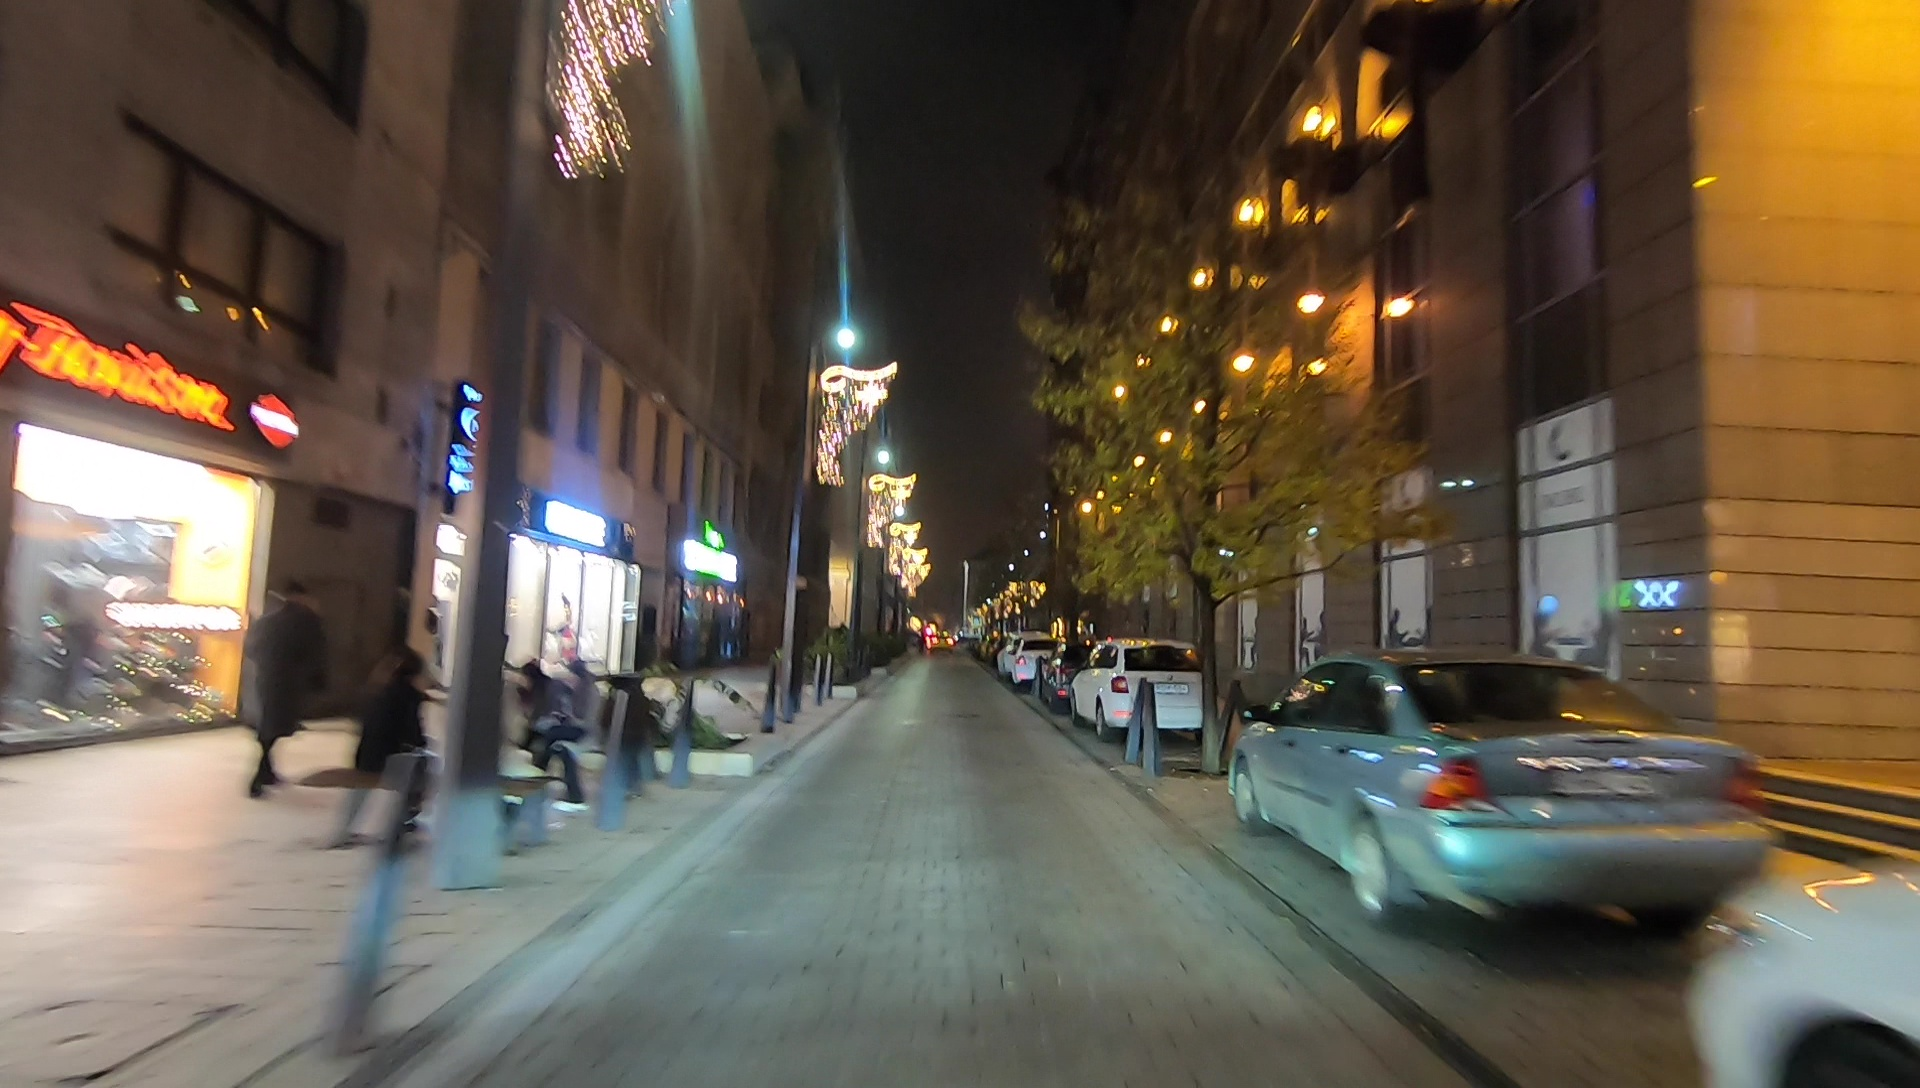person: (345, 652, 432, 839), (249, 578, 317, 799)
